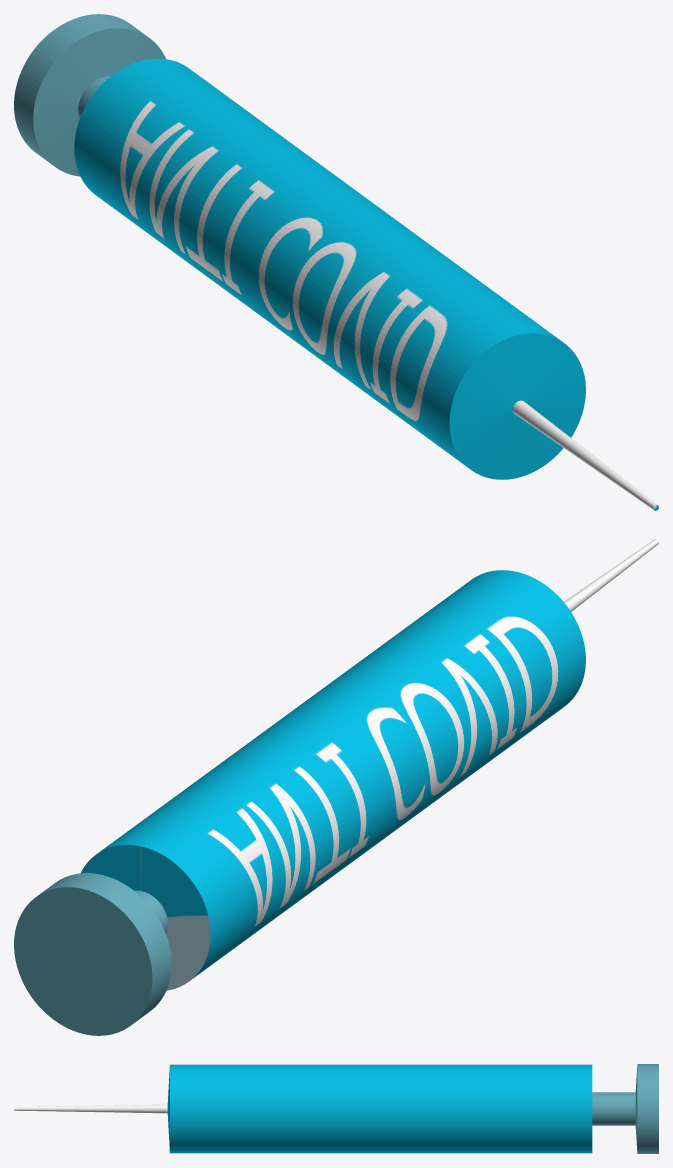
Rendered from Vakcine.fbx.
The picture shows the model from 3 angles, top to bottom: view 1: azimuth 30°, elevation 25°; view 2: azimuth 150°, elevation 25°; view 3: azimuth 270°, elevation 25°; orthographic projection. The views are drawn at different scales.
Parts seen in each view (by area): view 1: Vakcine; view 2: Vakcine; view 3: Vakcine.
Part boxes in pixels (bbox=[...]): Vakcine: bbox=[14, 14, 658, 510]; Vakcine: bbox=[14, 539, 658, 1035]; Vakcine: bbox=[14, 1064, 658, 1153].
Bounding box in the file's own units: 41.55 × 41.55 × 298.
